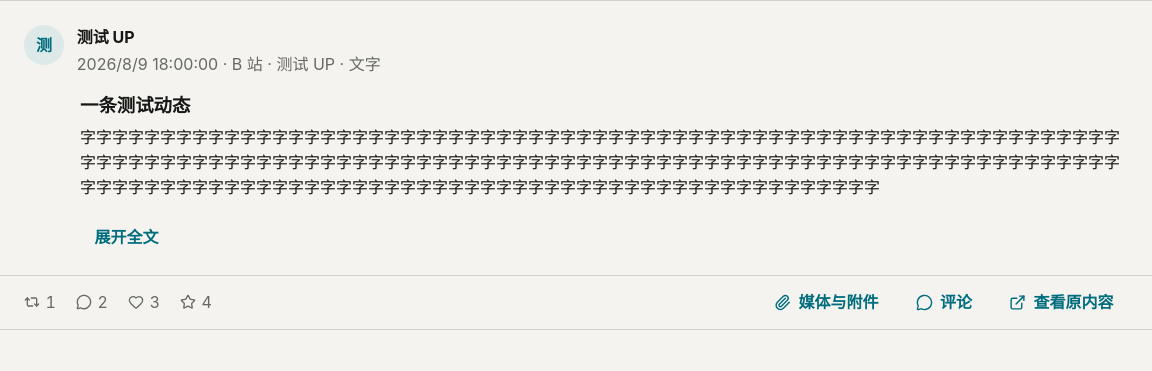
HistoryCard › clamps long body text and expands on demand
Click the button "展开全文" at (127, 237), box [80, 216, 173, 259]
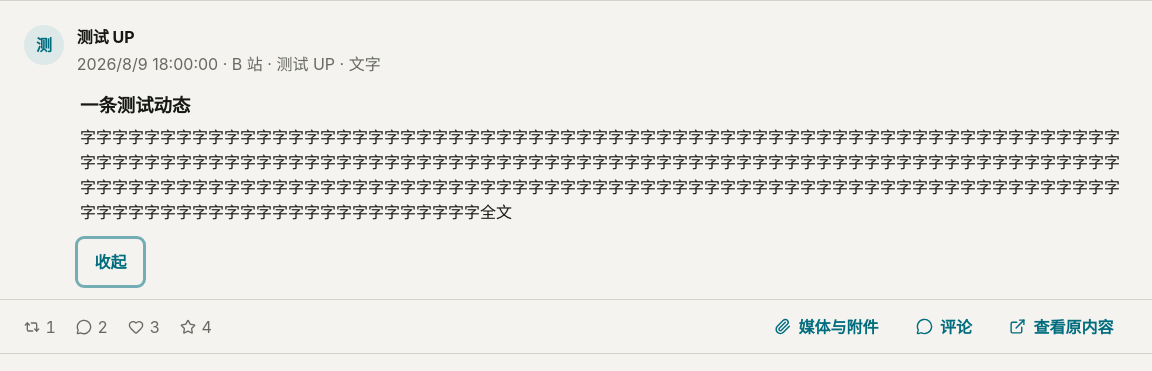
Expected: the button "收起" is shown, [80, 241, 141, 284]
